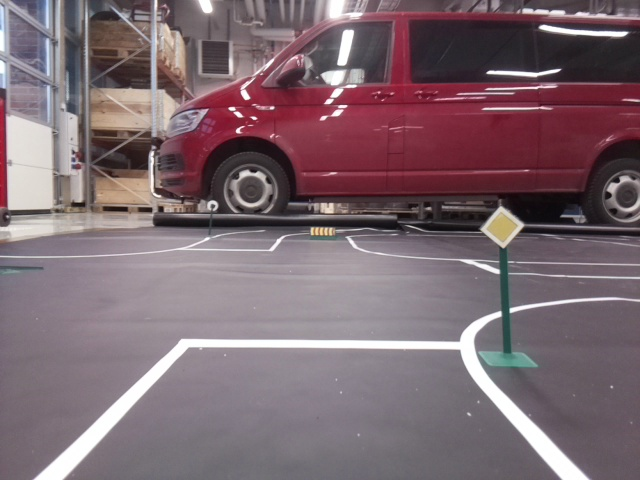Priority: (479, 207, 521, 242)
